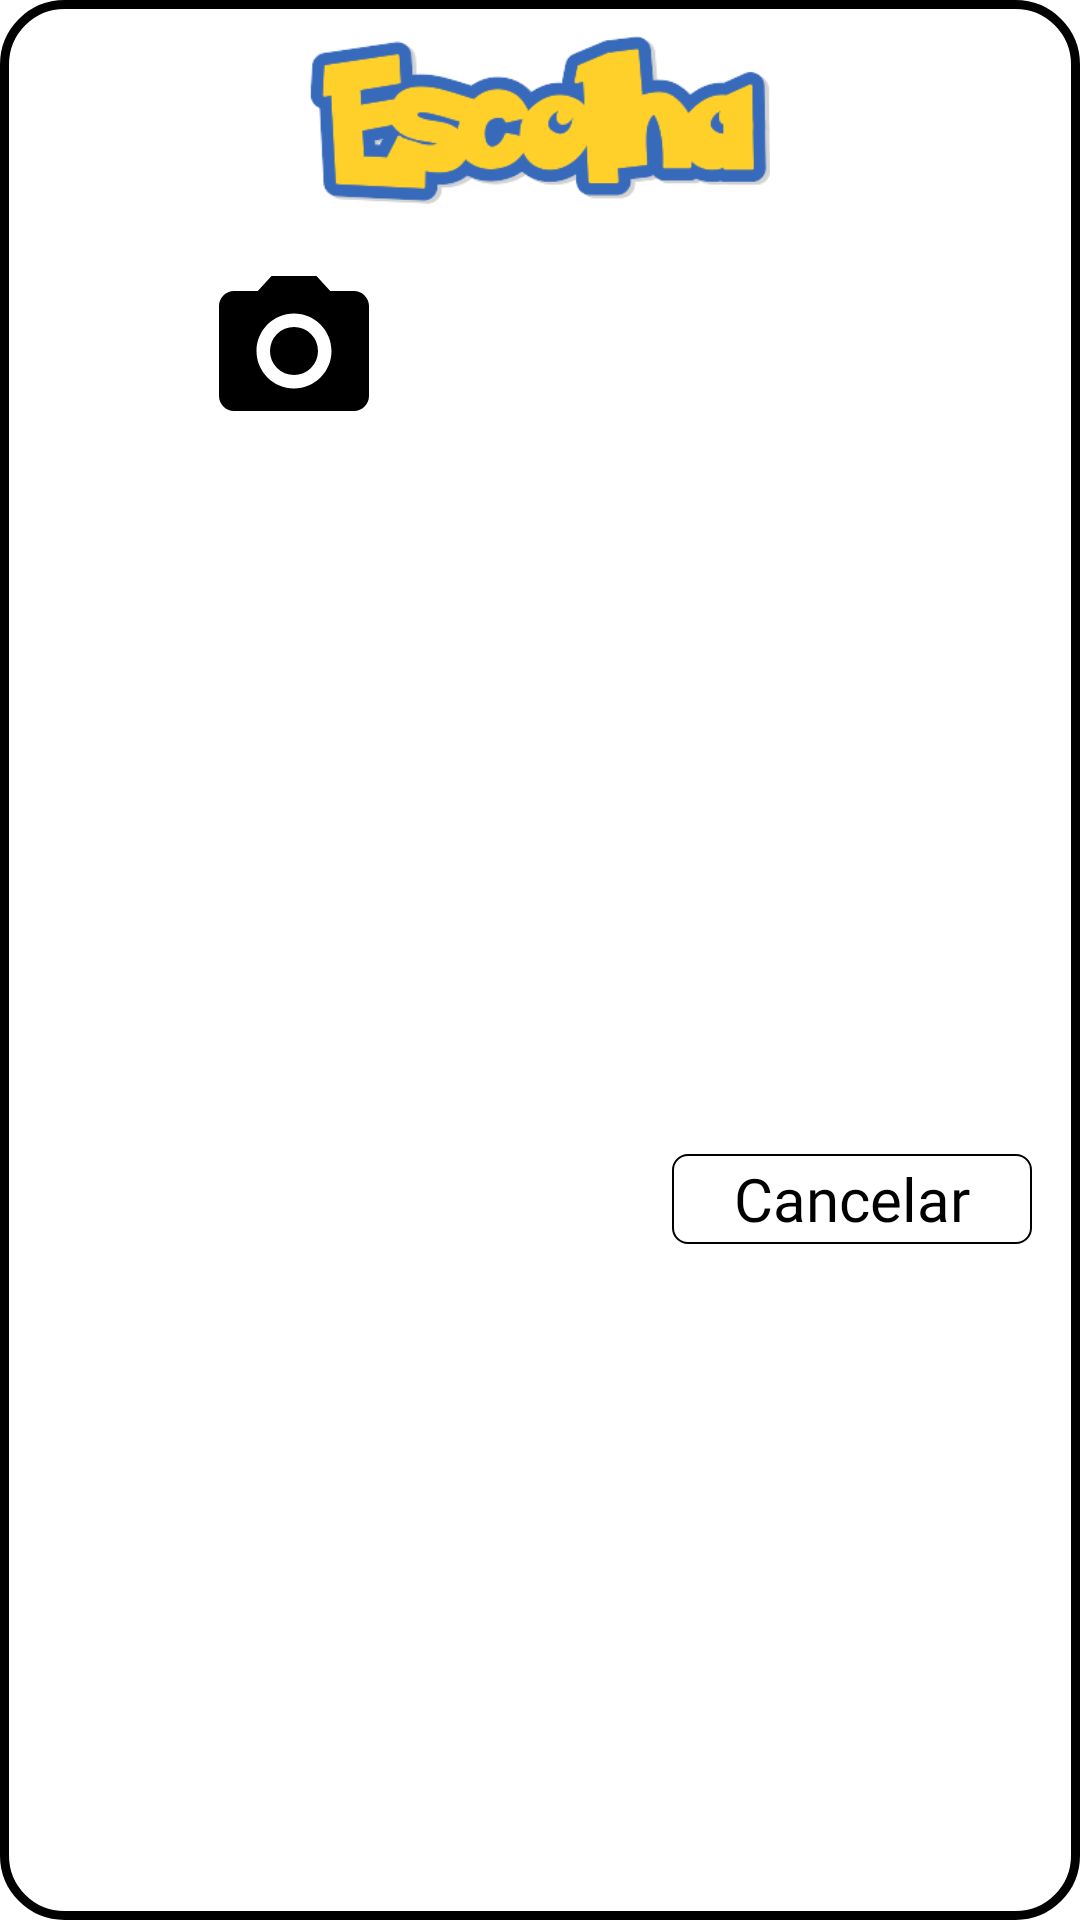

Point at icon controls on the screen. Image size 1080 x 1920, points as (x,y).
photo camera: (294,343)
